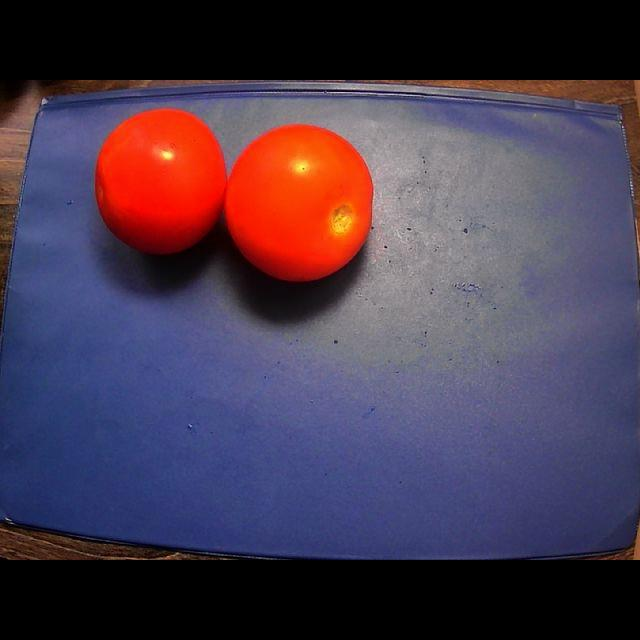tomate: (225, 124, 372, 281), (95, 108, 227, 254)
